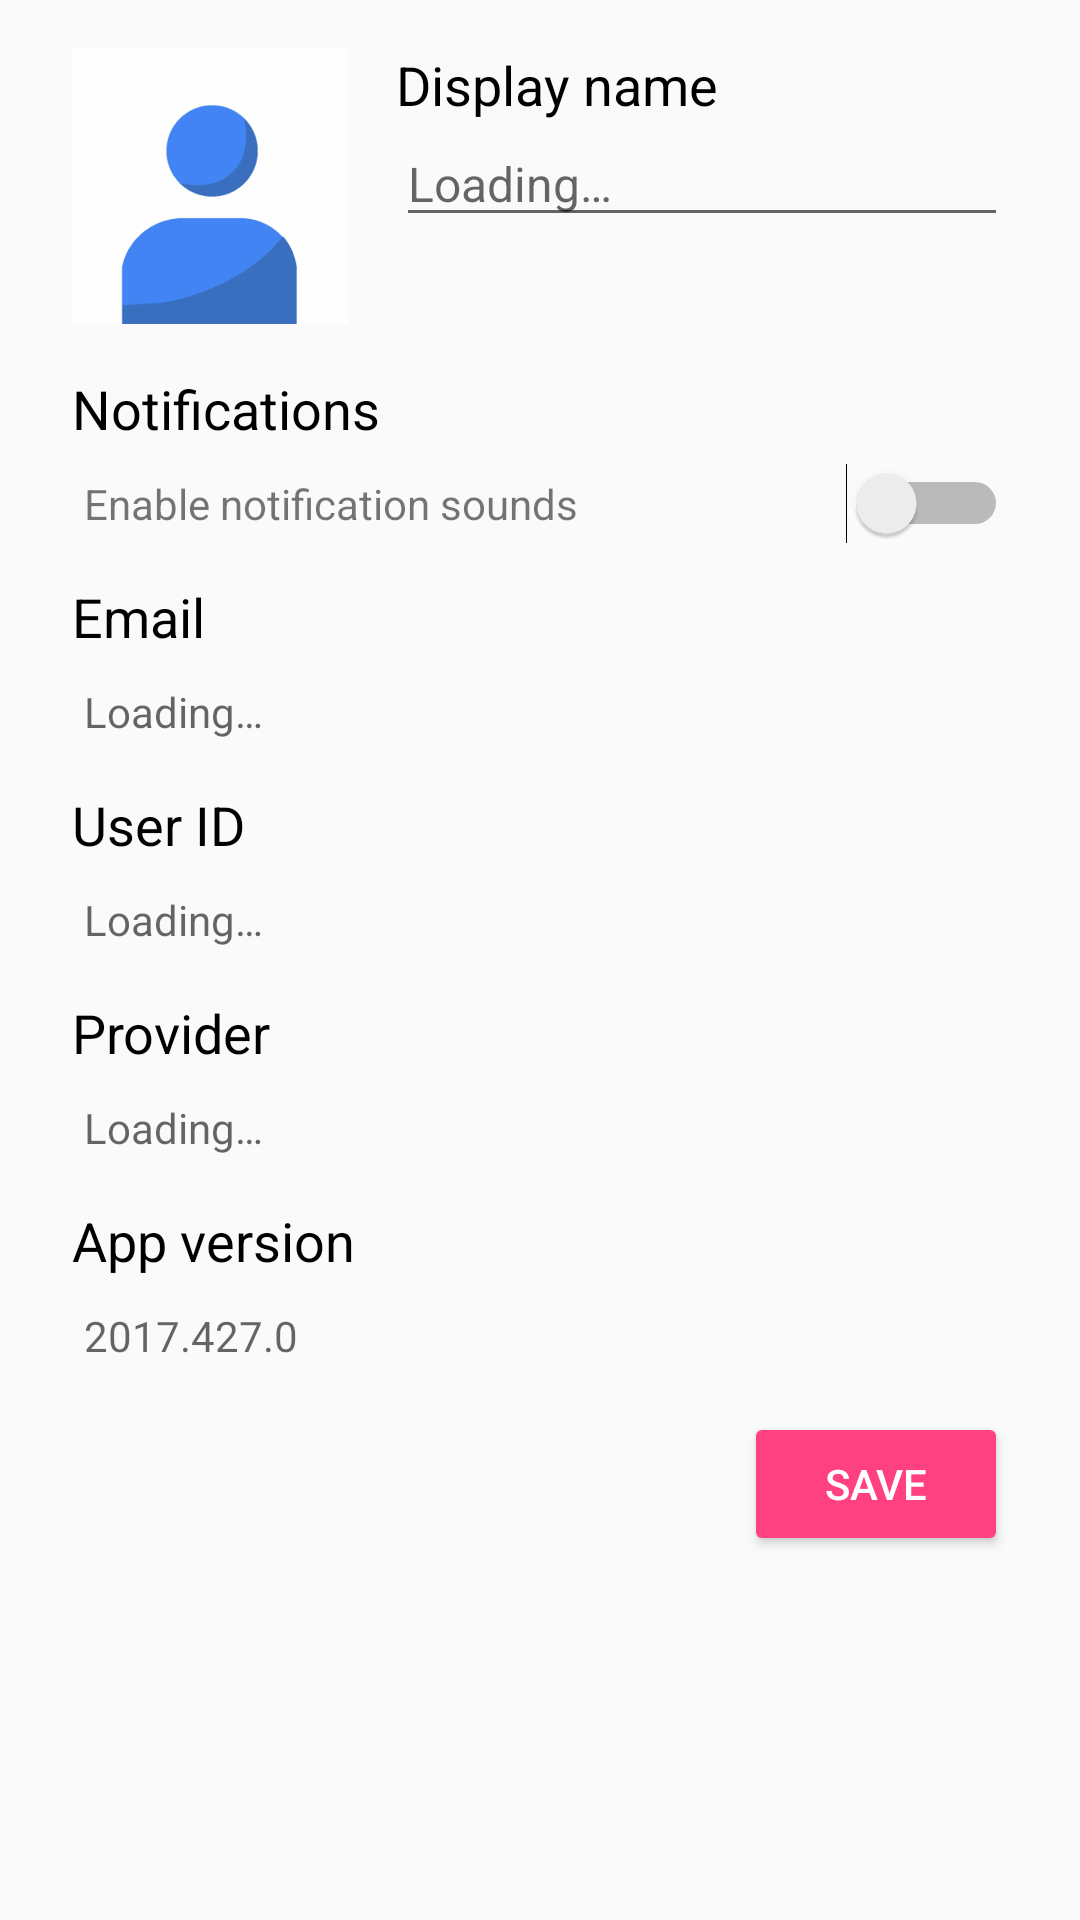

Point at icon controls on the screen. Image size 1080x1920, points as [x,y].
User profile picture: [209,214]
